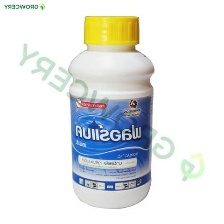insecticide: (66, 12, 156, 211)
